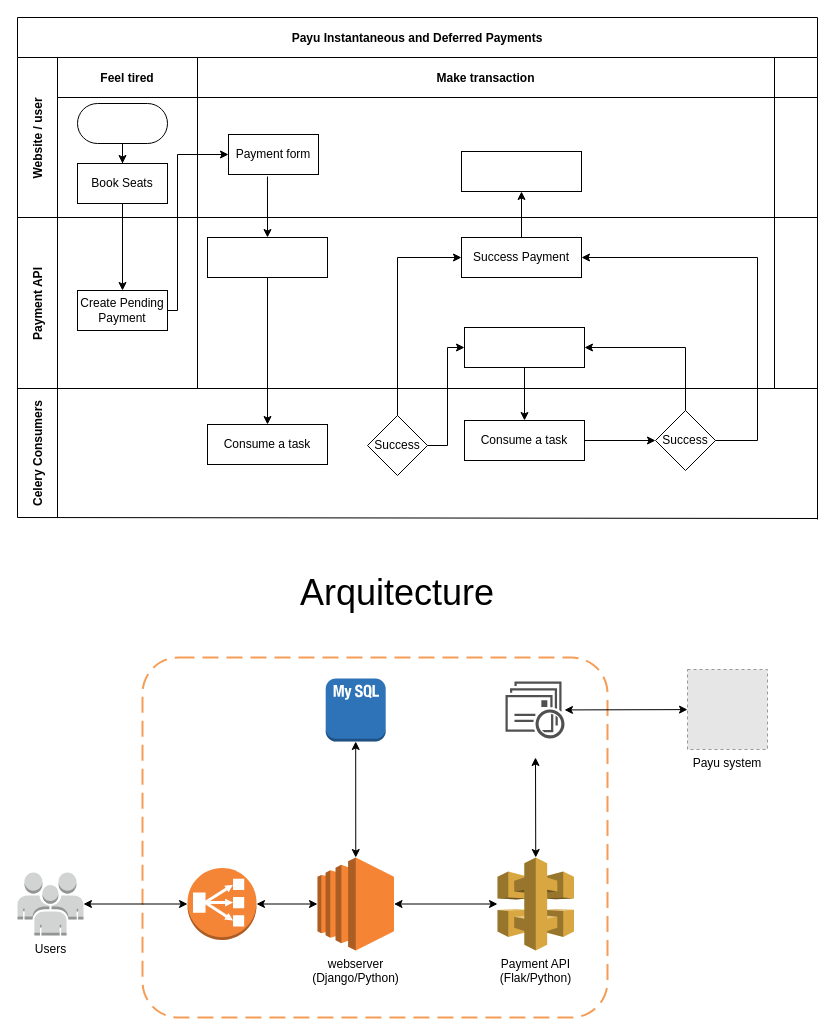
Some shapes in this 836 by 1036 pixel diagram are drawn without their labels. Grey dashed boxes stand in for pictures. The centre of each missing label's shape, as x and y in pixels:
"Deferred Queue" belongs at point 524,347.
"loadbalancer" belongs at point 221,903.
"Notify User" belongs at point 521,171.
"Payment Queue" belongs at point 267,257.
"RabbitMQ" belongs at point 534,709.
"Start" belongs at point 122,123.
